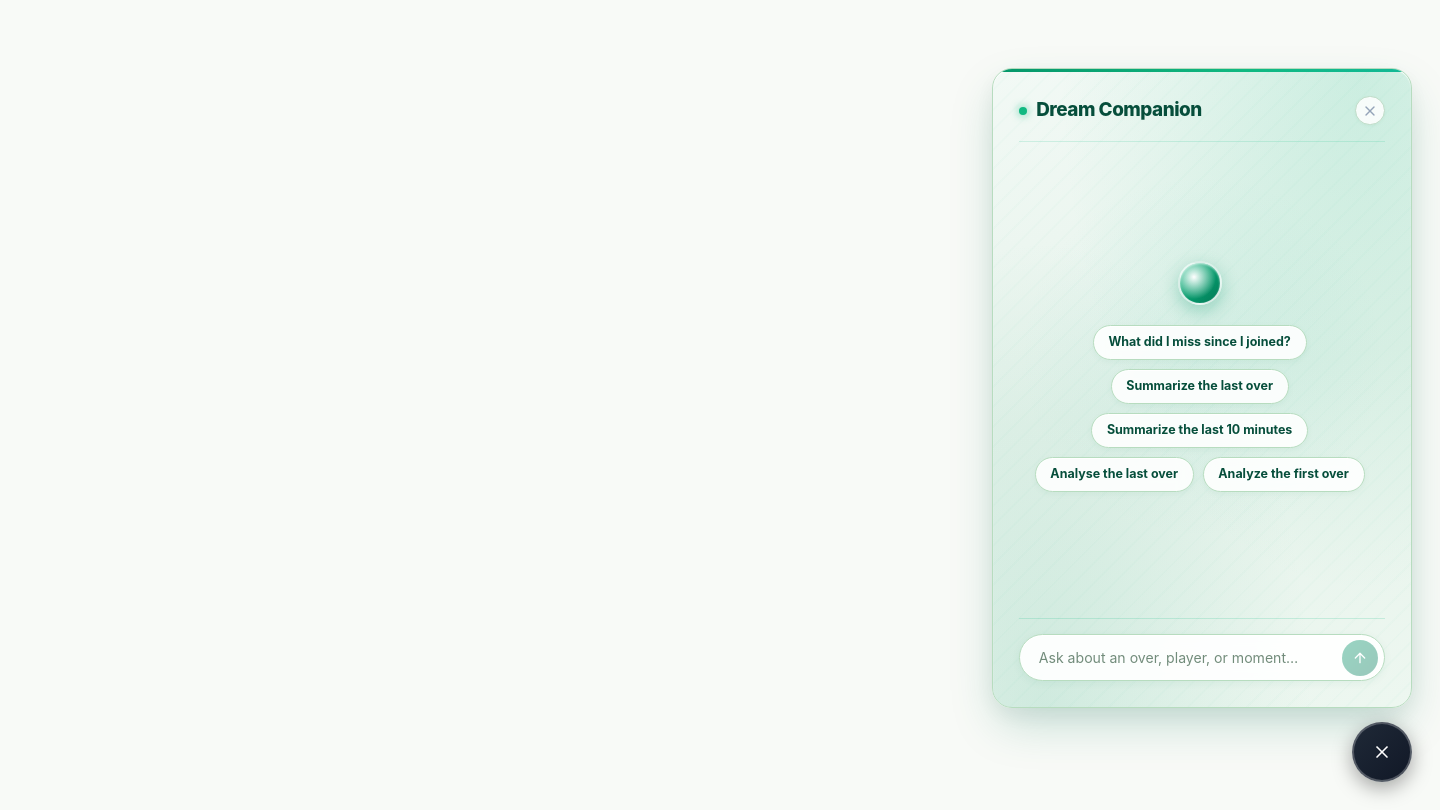
Test case: MatchCompanionChat › clears conversation transcript when clicking clear transcript button and restores quick prompts
What coordinates should you click on to do the following:
click the button "Summarize the last over"
I would click on:
 (1200, 387)
Its box is [1110,369,1289,404].
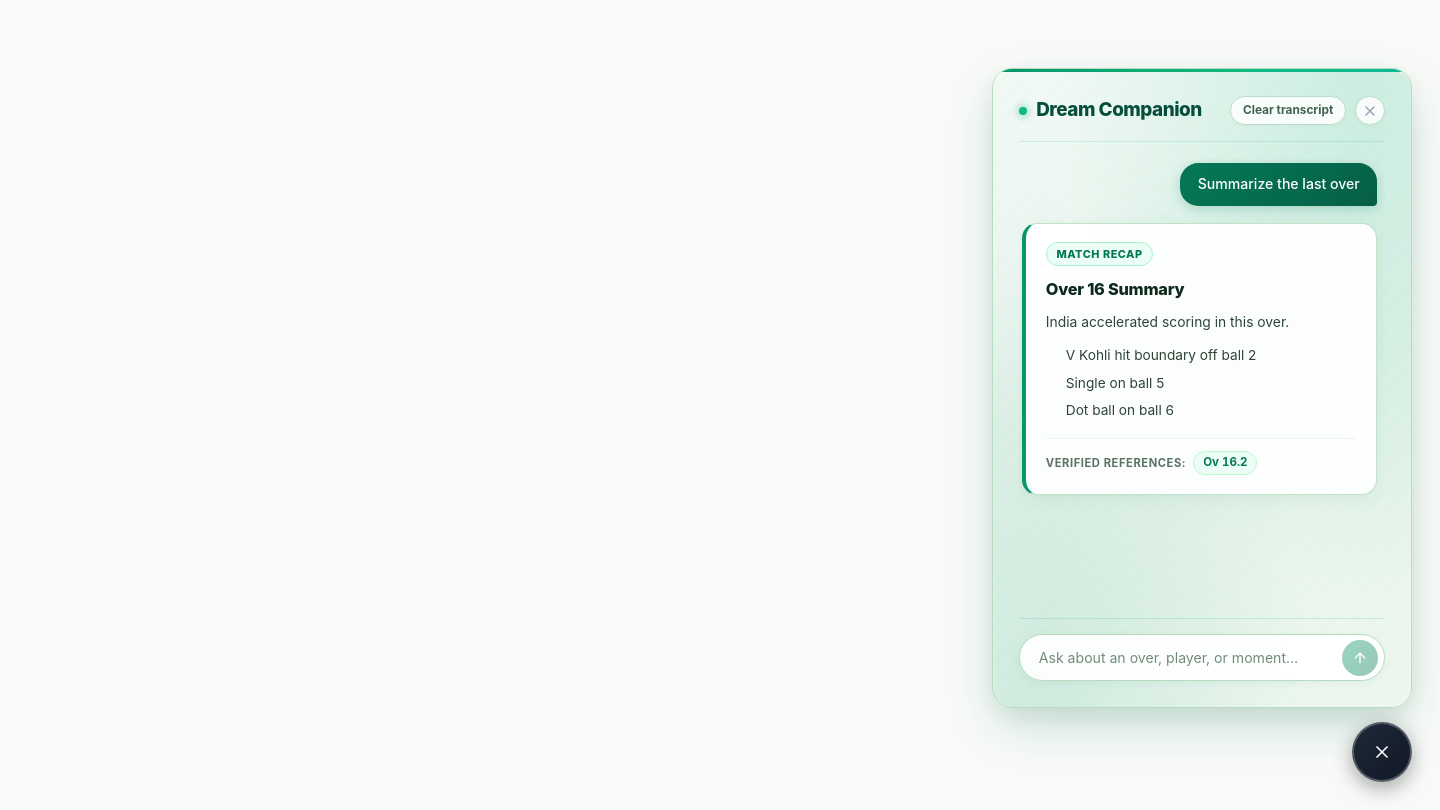
Now the heading "Over 16 Summary" is shown, box [1046,279,1184,299]
What coordinates should you click on to do the following:
click the button "Clear transcript"
I would click on:
 (1288, 111)
Its box is [1230,96,1346,125].
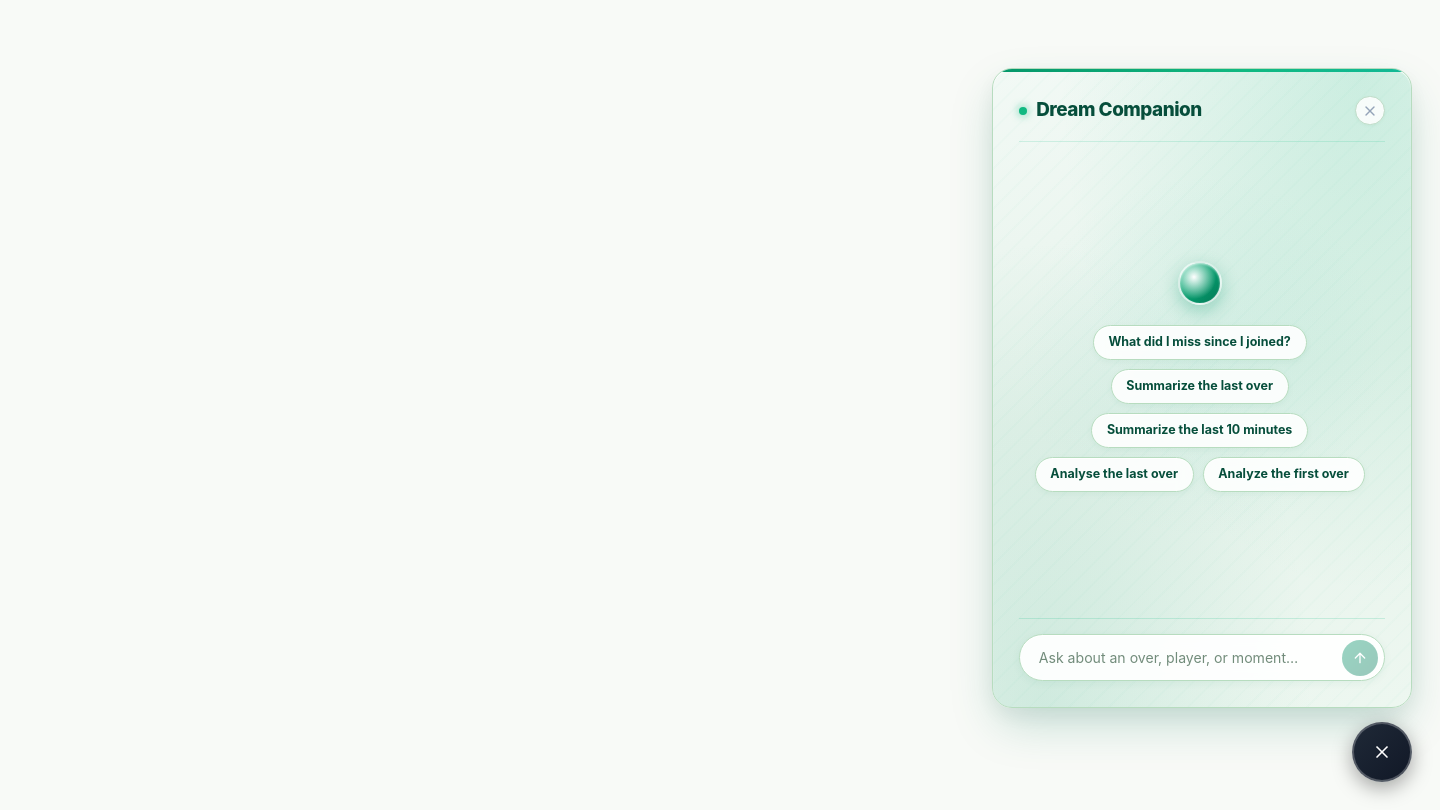
Expected: the button "Summarize the last over" is shown, [1110,369,1289,404]
Now the heading "Over 16 Summary" is gone
Now the button "Clear transcript" is gone
